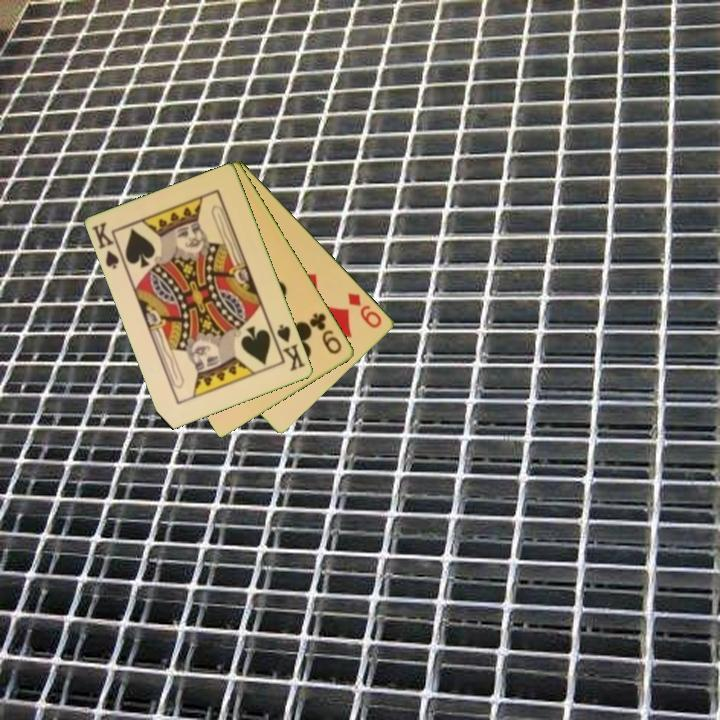9c: (306, 309, 345, 357)
9d: (344, 289, 385, 331)
Ks: (269, 321, 308, 374), (89, 219, 128, 272)
